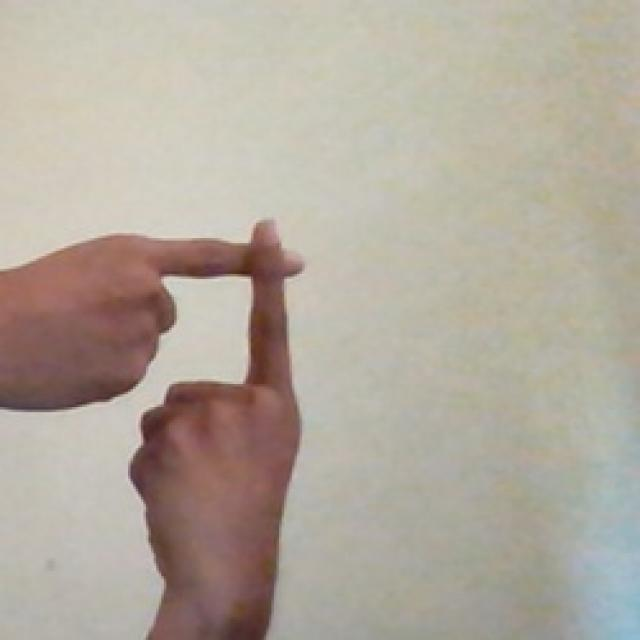Alphabet-J: (16, 200, 305, 620)
